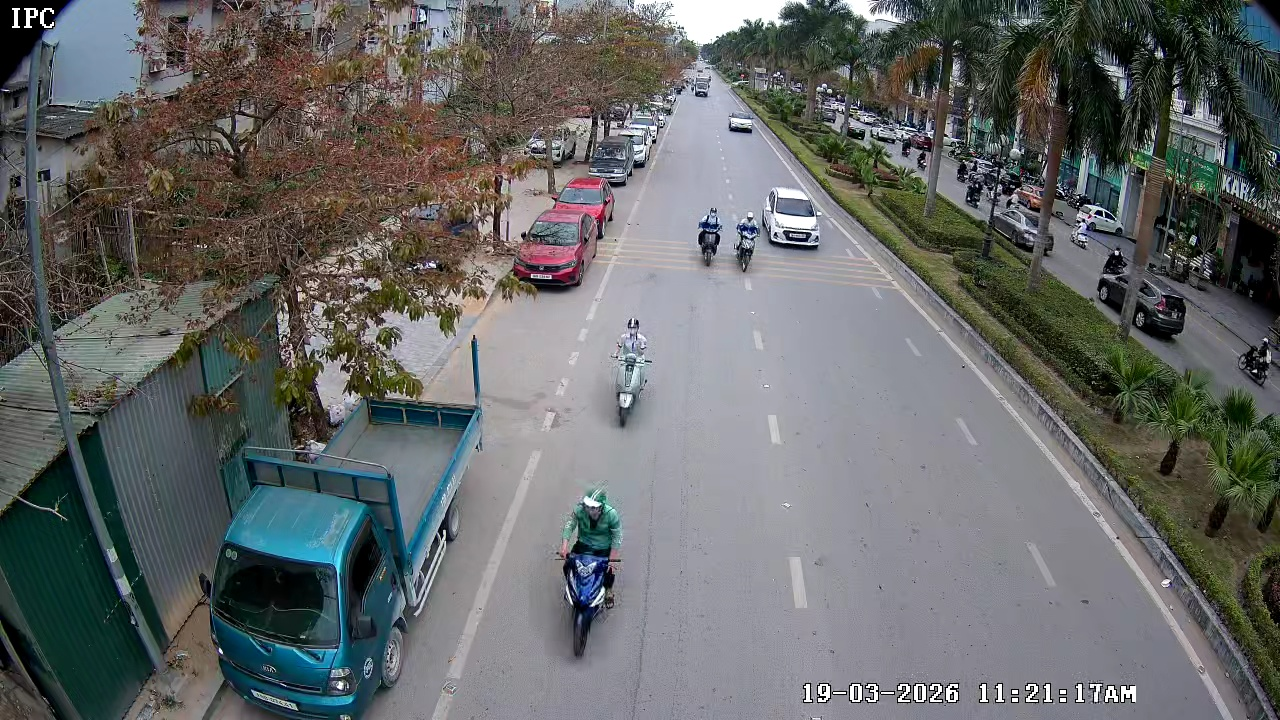car: (513, 212, 589, 291), (552, 176, 616, 240), (763, 185, 822, 249), (587, 129, 632, 189), (729, 107, 757, 136)
motorbike: (554, 485, 623, 658), (609, 316, 654, 428), (732, 209, 761, 273), (695, 206, 724, 269)
